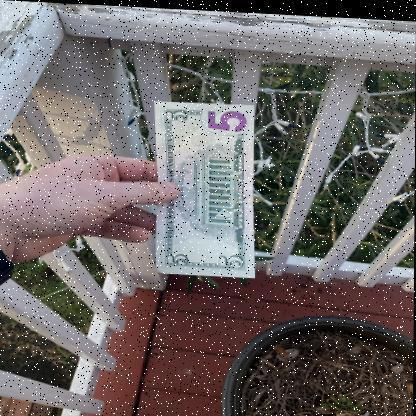five-back: (156, 100, 256, 276)
